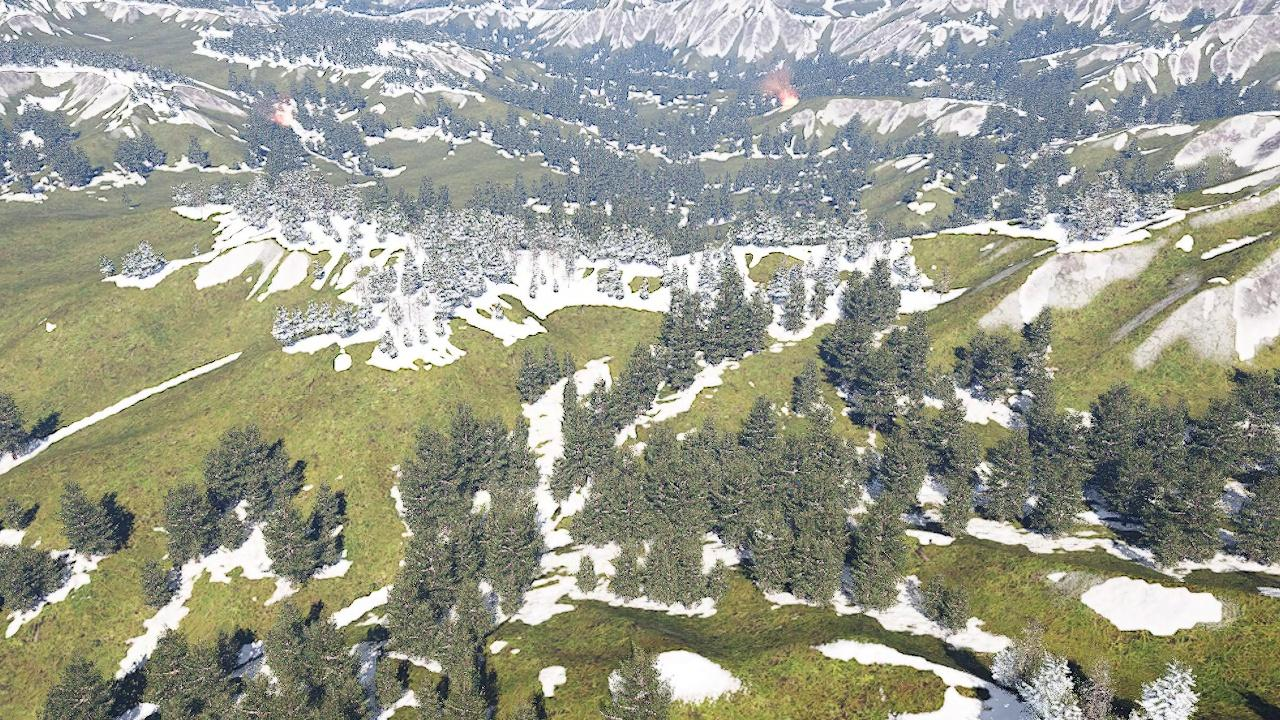fire: (775, 95, 798, 111), (275, 110, 294, 126)
smoke: (756, 55, 791, 93)
